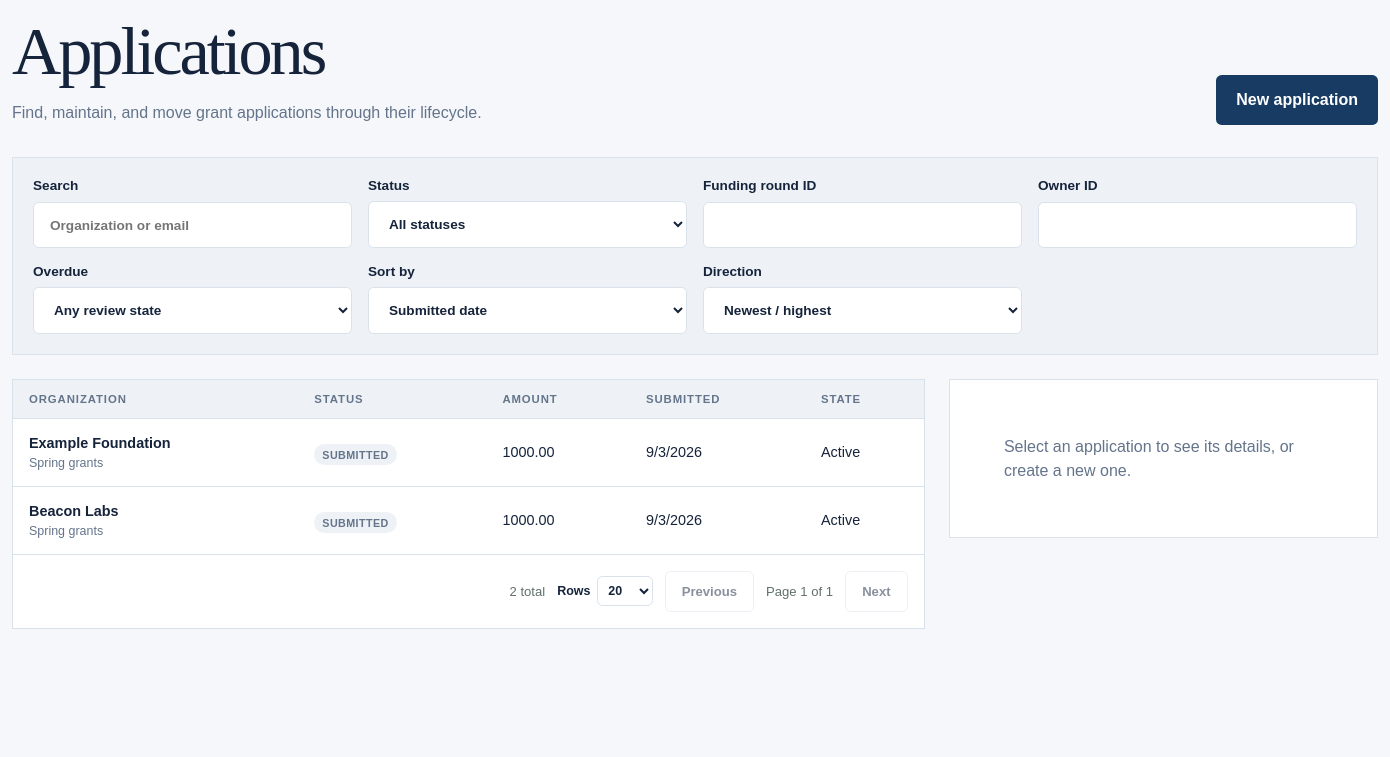
Test: Program Officer assignment management › keeps the newer application's assignments when an older list request resolves late
Click the button "Example Foundation": point(100, 443) [29, 435, 170, 451]
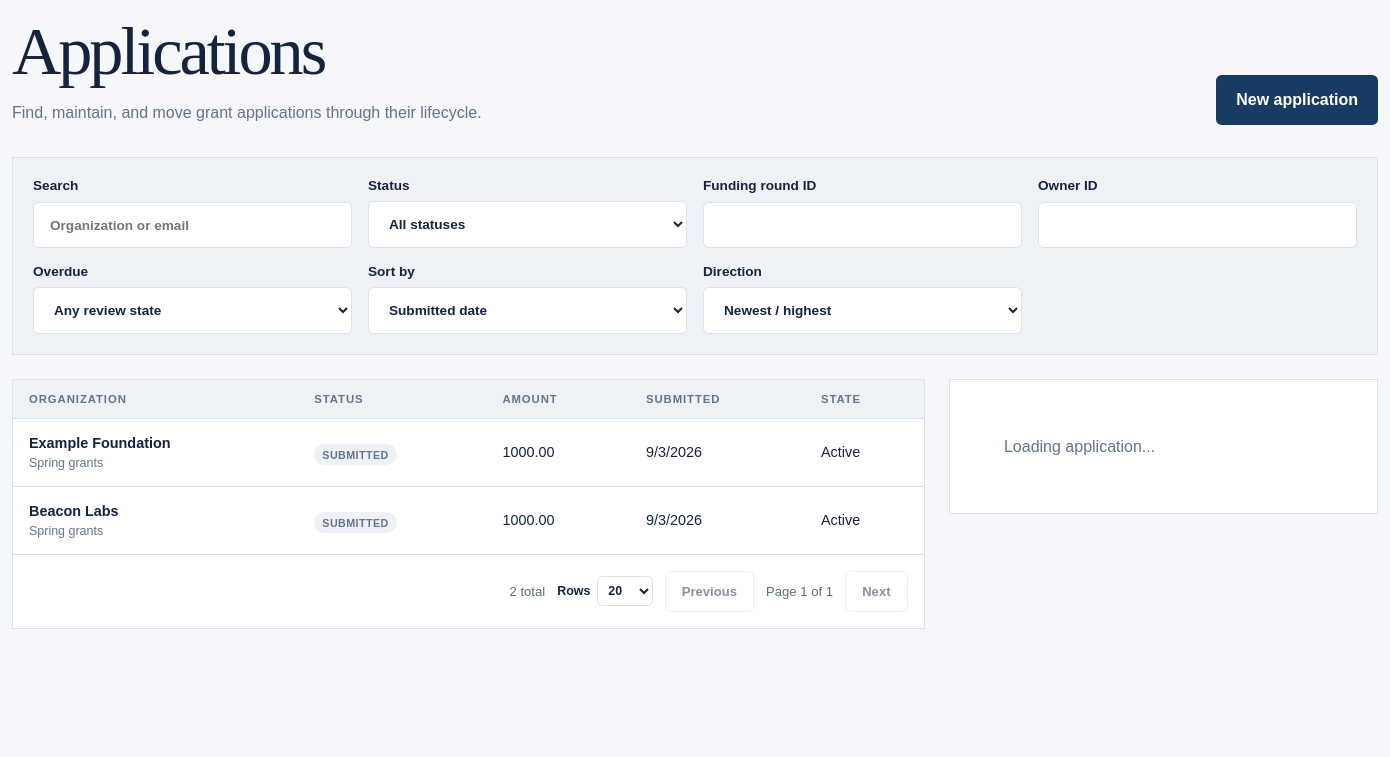
Click the button "Beacon Labs": point(74, 511) [29, 503, 119, 519]
(page scrolled)
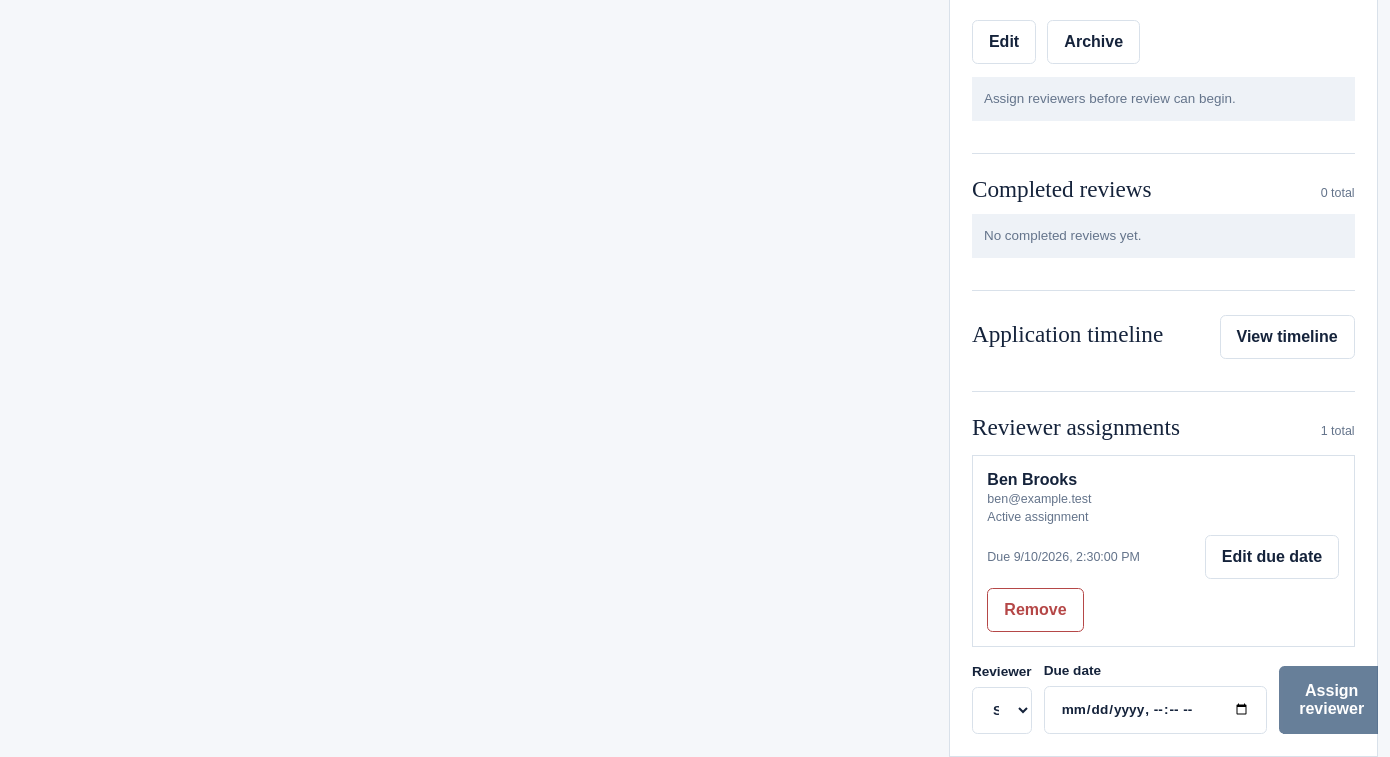
Expected: the text "Ben Brooks" is shown, [987, 470, 1077, 488]
